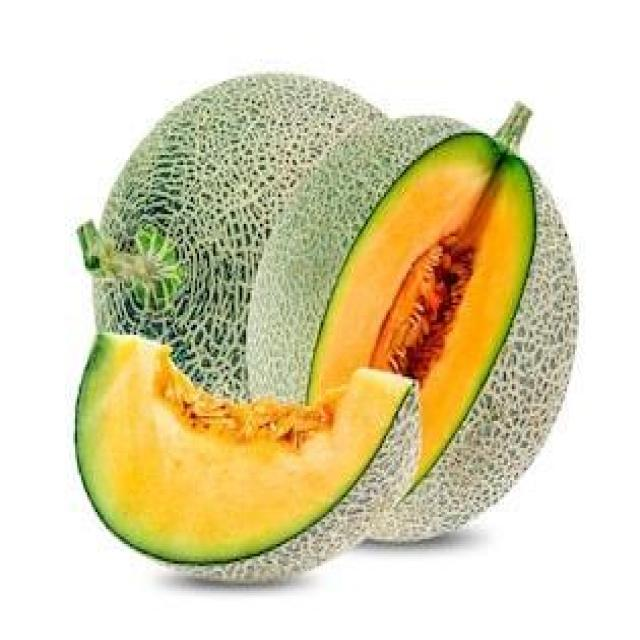cantaloupe: (247, 102, 580, 549), (67, 332, 422, 586)
